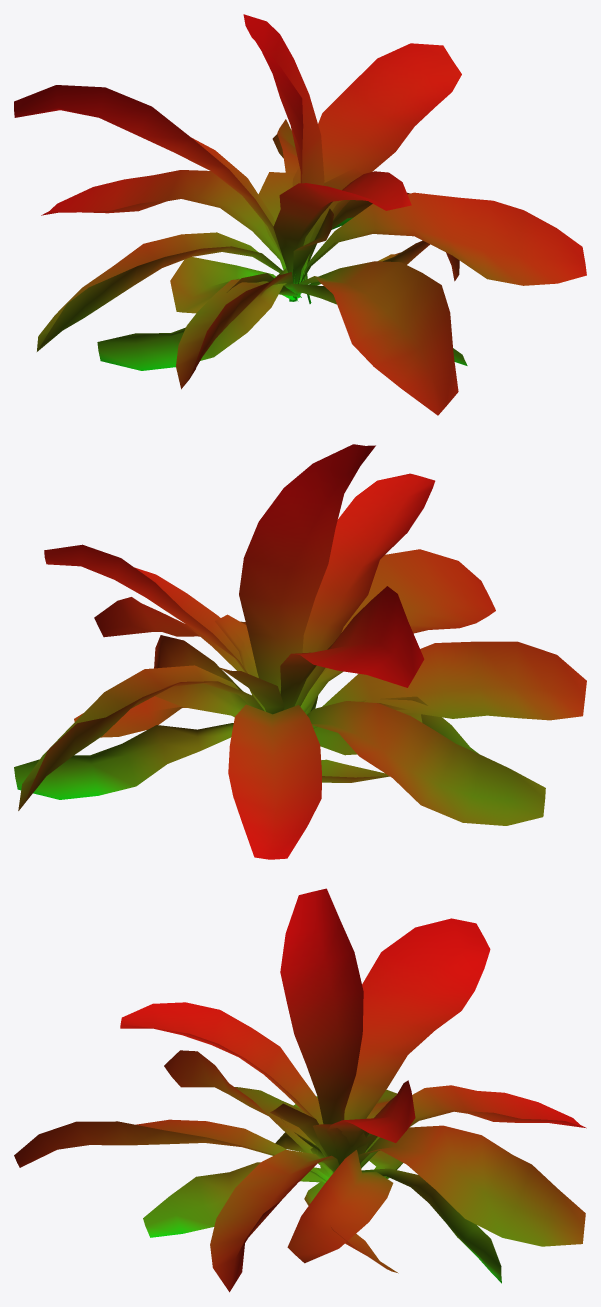
The model's file is Bog Marshcress_LOD1_Var1_theqfivr.fbx.
The picture shows the model from 3 angles, top to bottom: view 1: azimuth 30°, elevation 25°; view 2: azimuth 150°, elevation 25°; view 3: azimuth 270°, elevation 25°; orthographic projection. The views are drawn at different scales.
Parts seen in each view (by area): view 1: merge1; view 2: merge1; view 3: merge1.
Boxes of the visible parts, left/top/right/bottom form: merge1: left=14, top=14, right=586, bottom=415; merge1: left=14, top=444, right=586, bottom=859; merge1: left=14, top=888, right=586, bottom=1292.
Size of the model in its own units: 29.41 by 18.6 by 32.3.
